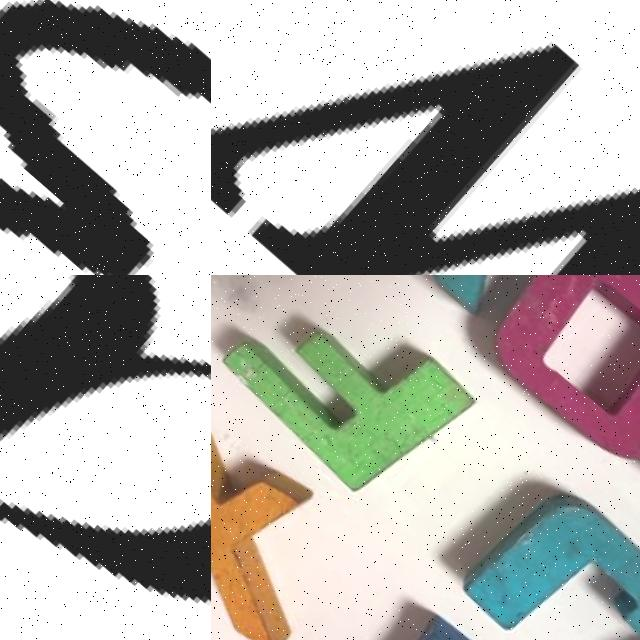3: (0, 0, 211, 275)
A: (0, 275, 211, 640)
F: (211, 275, 477, 507)
J: (455, 474, 640, 640)
O: (463, 275, 640, 472)
T: (303, 583, 559, 640)
V: (307, 275, 585, 315)
W: (211, 0, 640, 275)
X: (211, 375, 376, 640)
